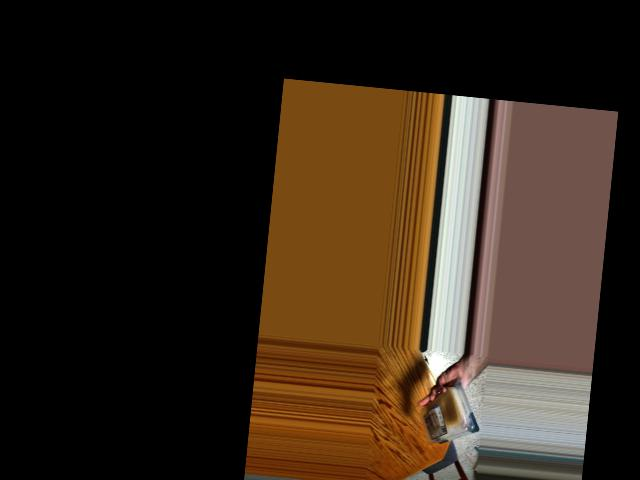cheese: (427, 378, 478, 448)
